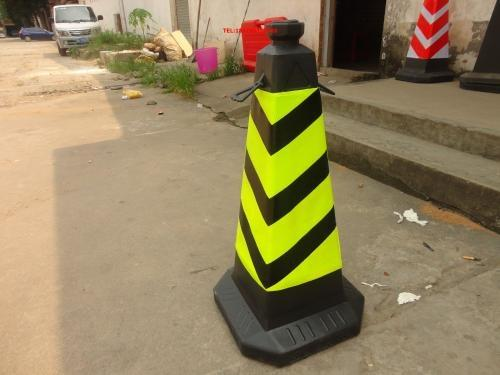cone_barrel: (219, 33, 355, 340), (395, 1, 452, 80)
